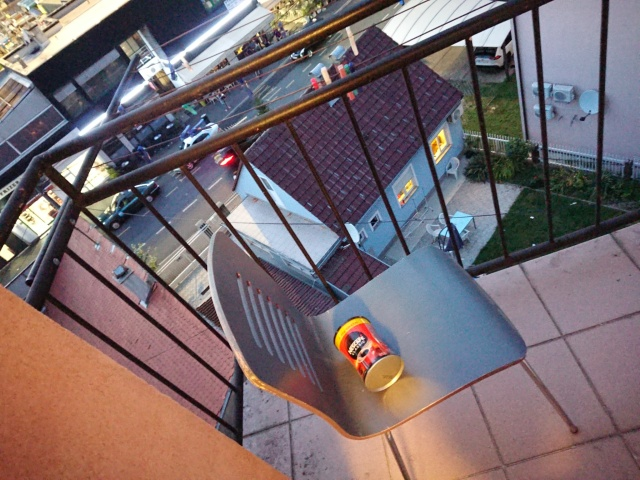Nescafe Classic 225g: (330, 313, 407, 396)
